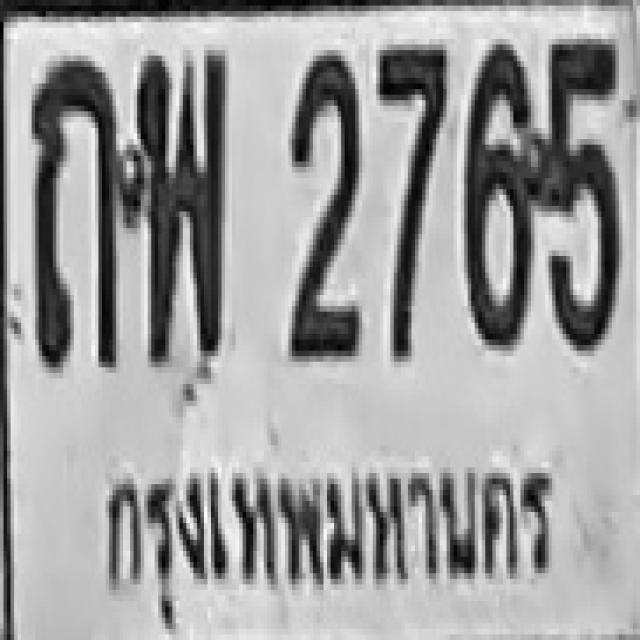-: (28, 56, 123, 367), (134, 48, 225, 364)
2: (286, 48, 361, 354)
5: (543, 34, 617, 350)
6: (464, 42, 542, 348)
7: (378, 42, 448, 359), (378, 42, 448, 326), (378, 39, 448, 250)
BKK: (86, 435, 559, 632)
